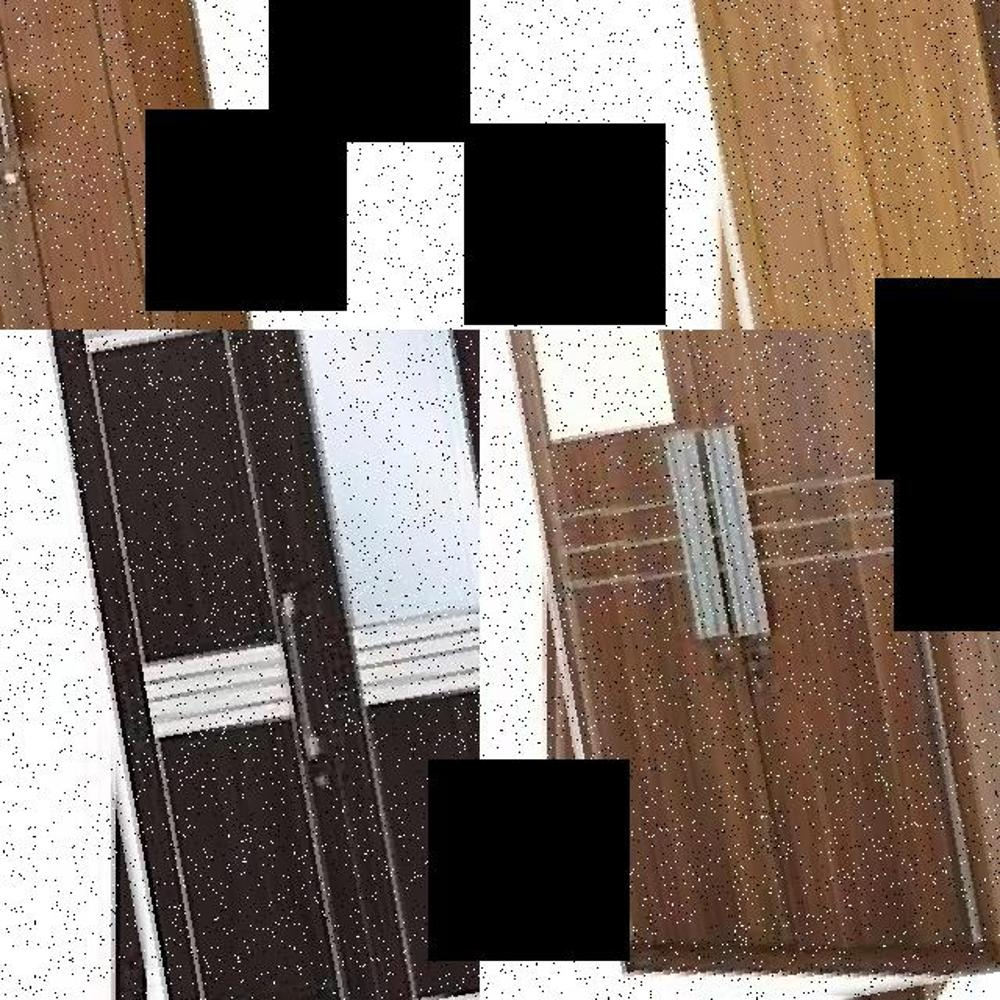cabinet: (498, 330, 1000, 1000), (58, 330, 480, 1000), (0, 0, 333, 330), (667, 0, 1000, 330)
